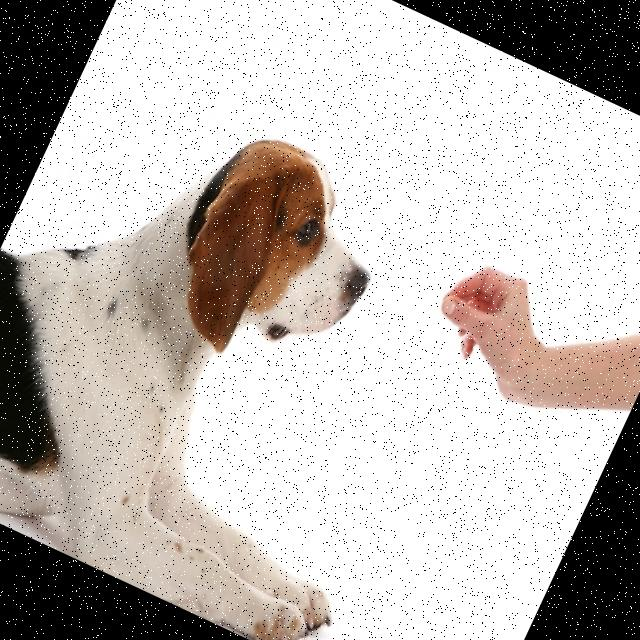Dog: (0, 49, 507, 640)
